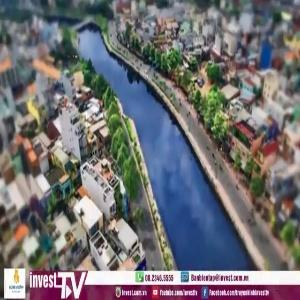drone: (47, 30, 102, 85)
